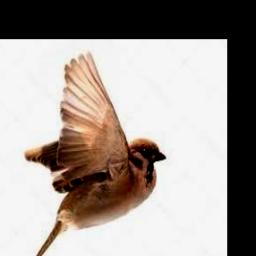Sparrow: (25, 51, 166, 256)
